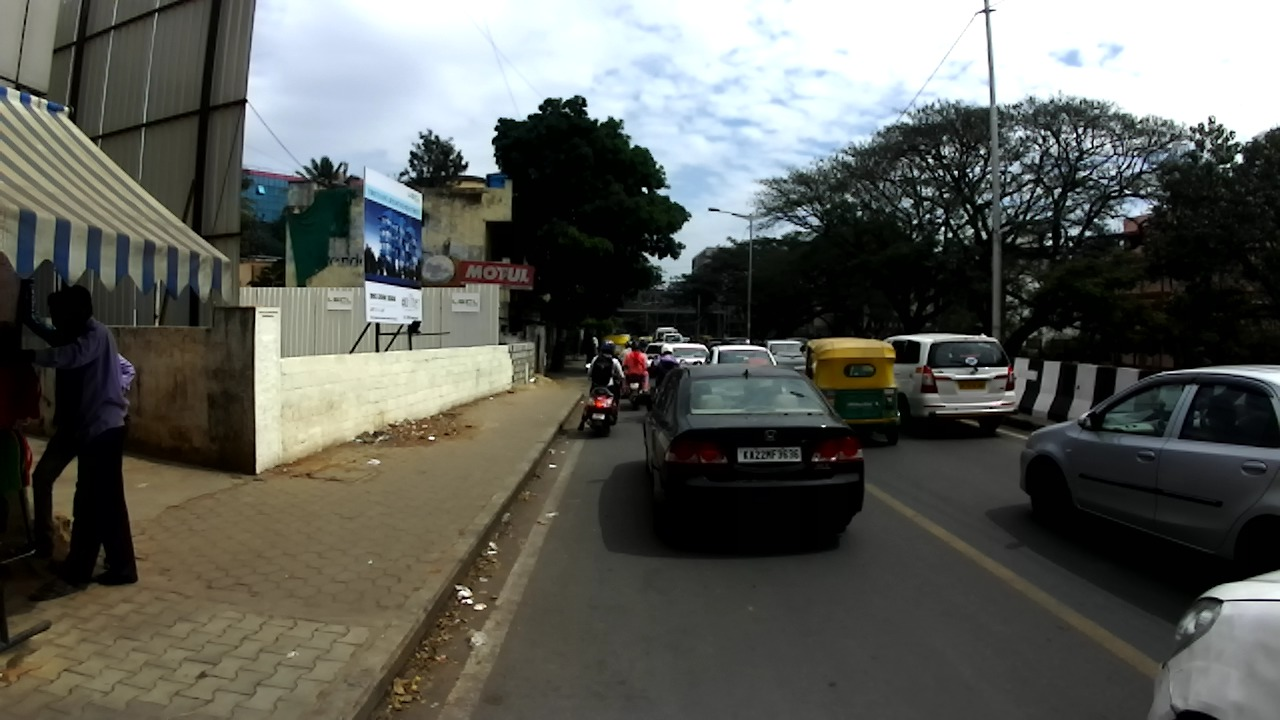autorickshaw: (801, 337, 900, 442)
bus: (654, 326, 680, 343)
car: (1018, 360, 1280, 571), (637, 363, 865, 544), (1144, 572, 1280, 719), (882, 333, 1017, 435), (711, 345, 776, 369), (762, 337, 807, 371), (661, 342, 709, 367), (645, 342, 664, 366), (663, 331, 683, 343), (706, 338, 723, 348), (724, 338, 750, 344)
motorcycle: (583, 359, 628, 437)
person: (11, 288, 137, 599), (21, 292, 94, 560), (582, 333, 594, 372), (591, 334, 601, 353)
rider: (576, 341, 626, 433), (622, 338, 650, 396), (651, 342, 681, 381), (618, 340, 633, 361), (640, 339, 650, 356), (624, 339, 636, 351), (638, 338, 647, 351), (656, 333, 664, 341), (687, 335, 694, 344)
vehicle fallback: (601, 333, 632, 358), (692, 335, 711, 345), (640, 336, 653, 344), (683, 337, 695, 343)
